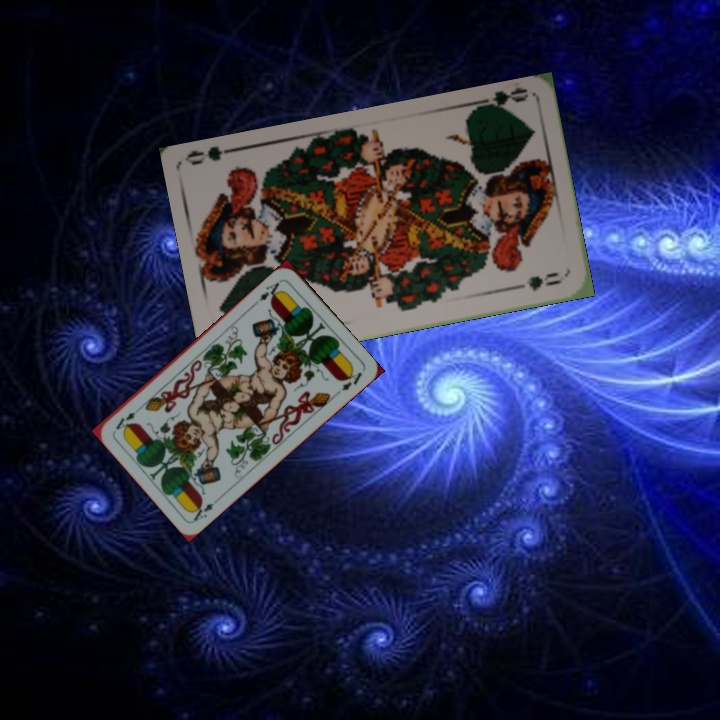EA: (187, 492, 223, 524), (255, 276, 285, 304)
GO: (470, 84, 530, 115)
